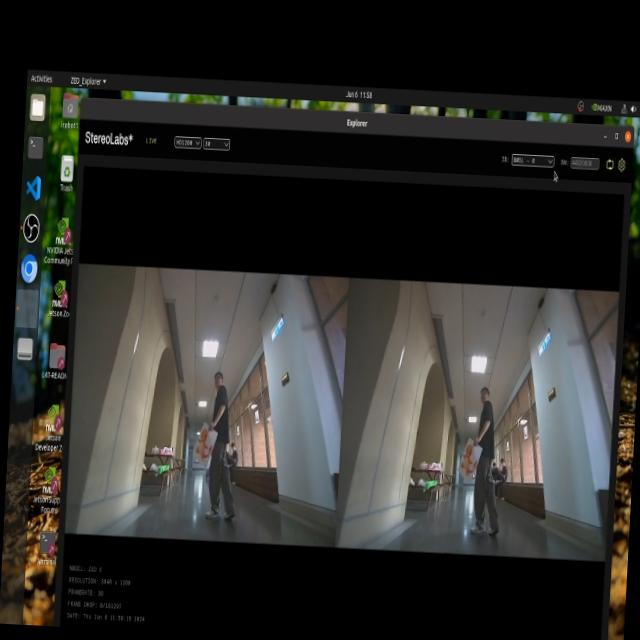red: (456, 446, 479, 482), (196, 423, 212, 465)
